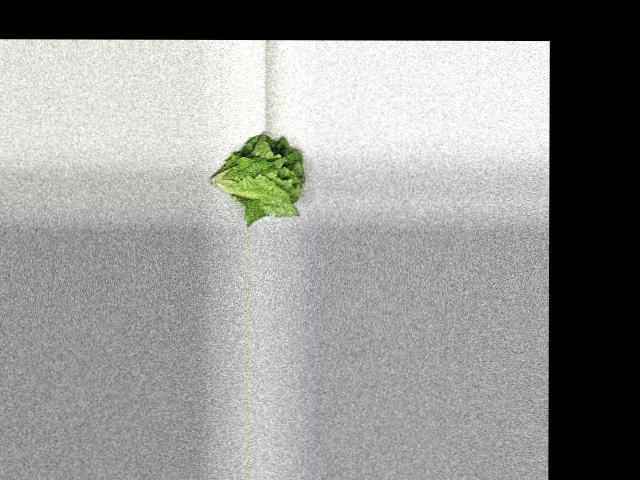lettuce: (207, 133, 306, 226)
